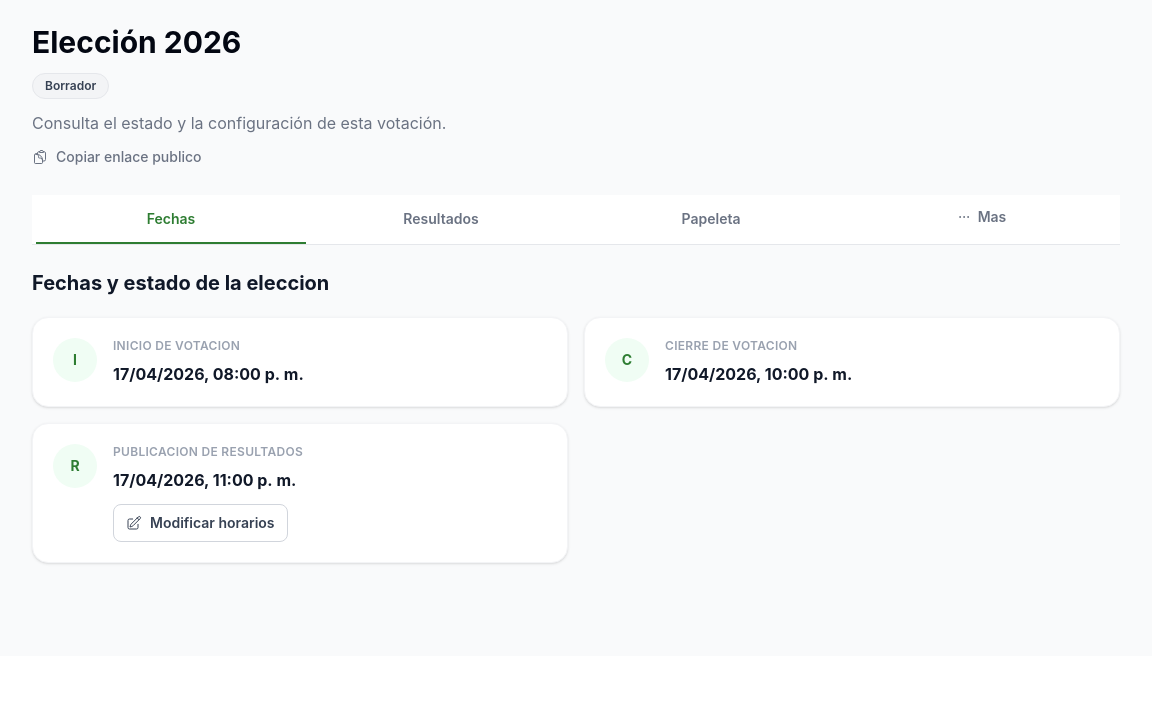
Scenario: MX-05 | Padrón, staging, elegibilidad y archivos | Frontend › PAD-STG-P0-001 / PAD-RPL-P1-001 | muestra el borrador activo autosalvado como fuente vigente antes de publicación
Click the tab "Mas" at coordinates (981, 220), box [846, 195, 1116, 244]
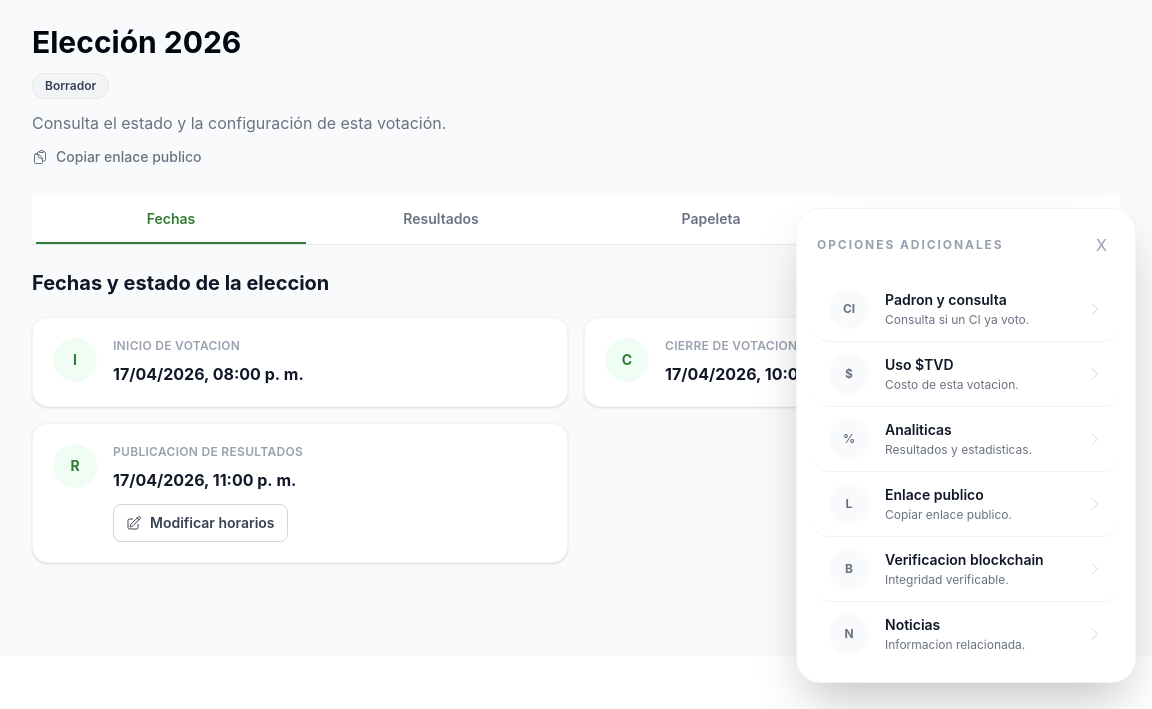
Click the button "CI Padron y consulta Consulta si un CI ya voto." at coordinates (966, 310), box [813, 277, 1119, 342]
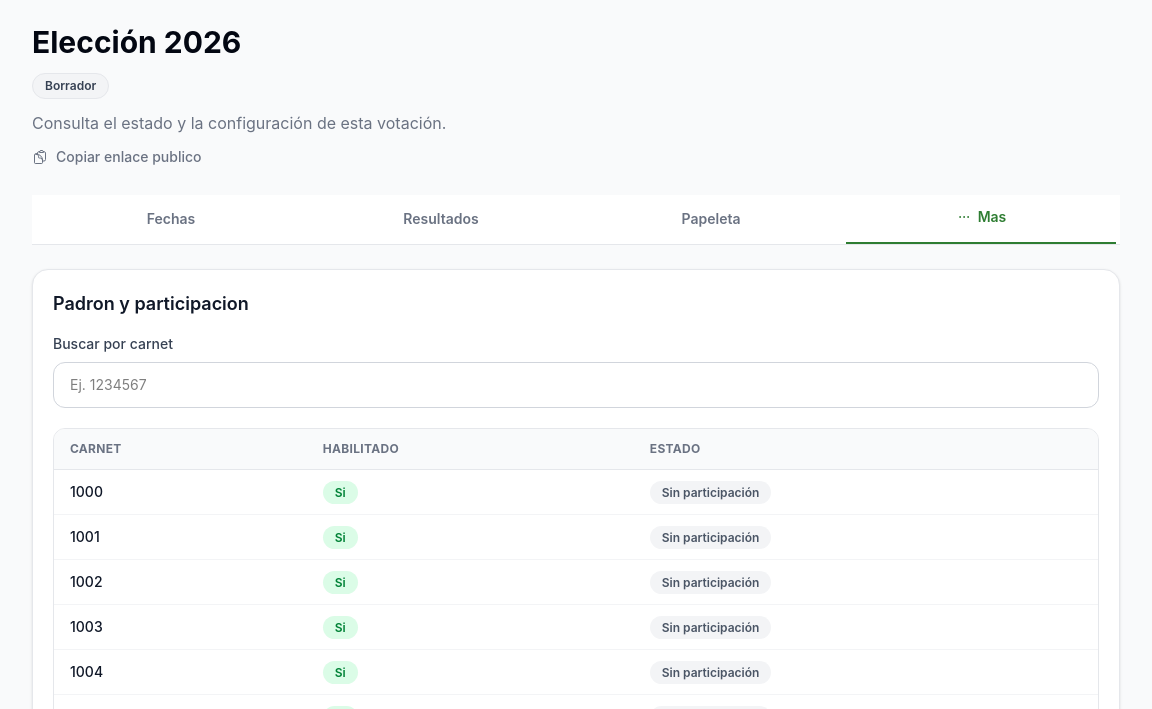
Expected: the heading "Padron y participacion" is shown, [53, 290, 249, 318]
